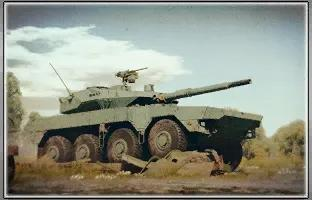MIL_IFV: (31, 65, 265, 175)
